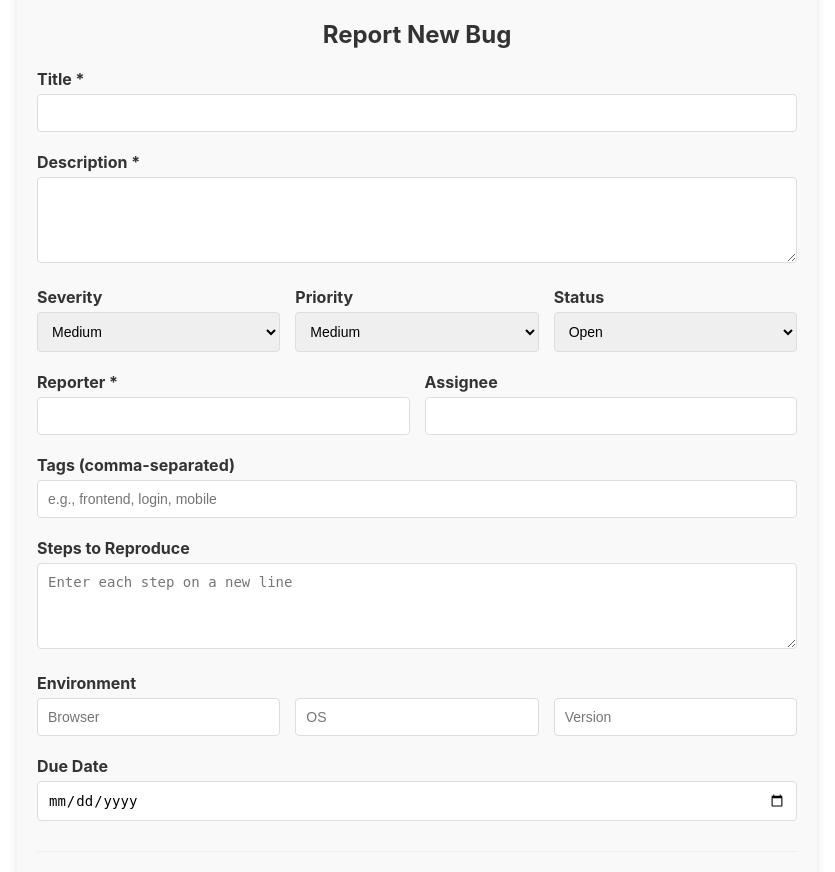
it: BugForm Component › Form Actions › resets form when reset button is clicked
This screenshot has width=835, height=872.
Type "Test Bug" into the field labelled "Title *" at {"x": 417, "y": 113}, box left=37, top=94, right=797, bottom=132
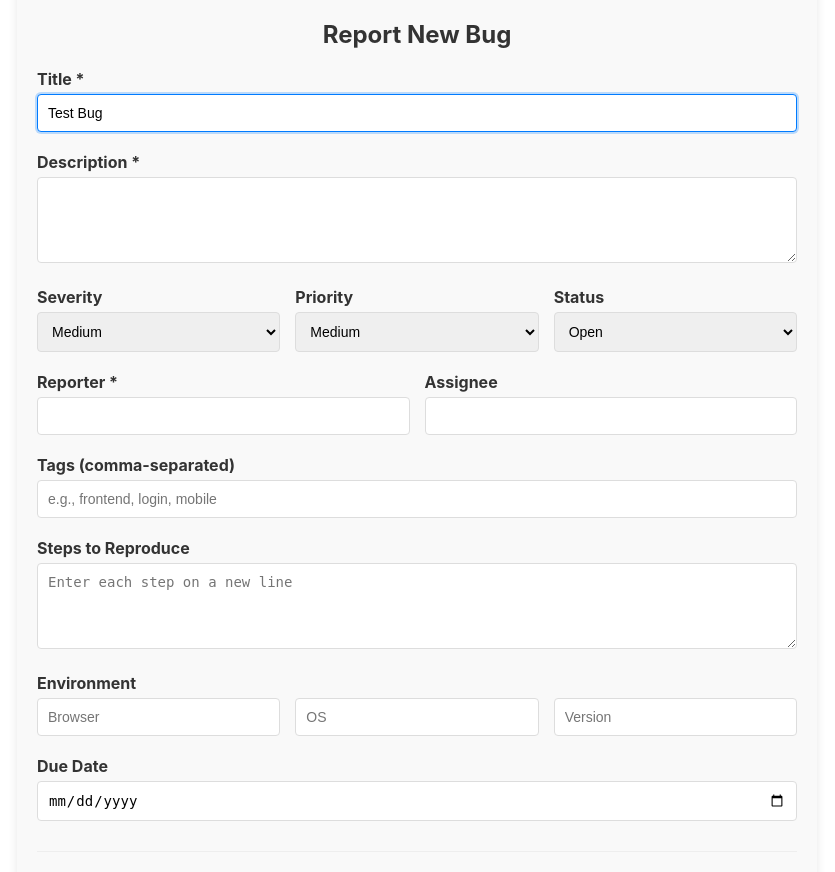
Type "Test description" into the text box labelled "Description *" at {"x": 417, "y": 220}, box left=37, top=177, right=797, bottom=263
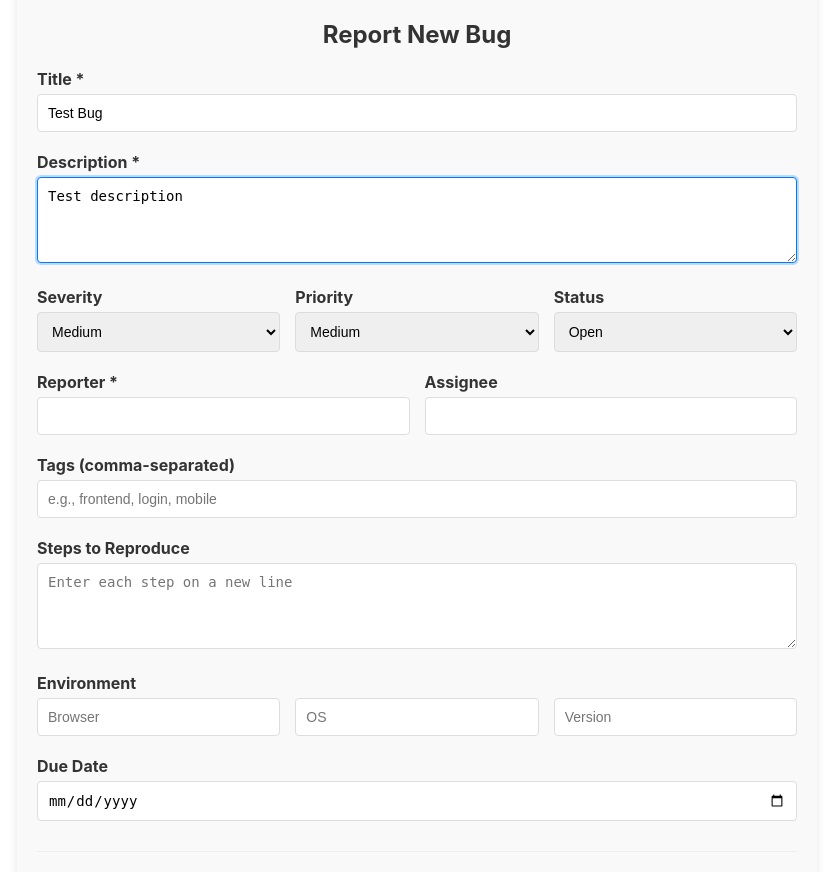
Type "John Doe" into the field labelled "Reporter *" at {"x": 223, "y": 416}, box left=37, top=397, right=410, bottom=435
(page scrolled)
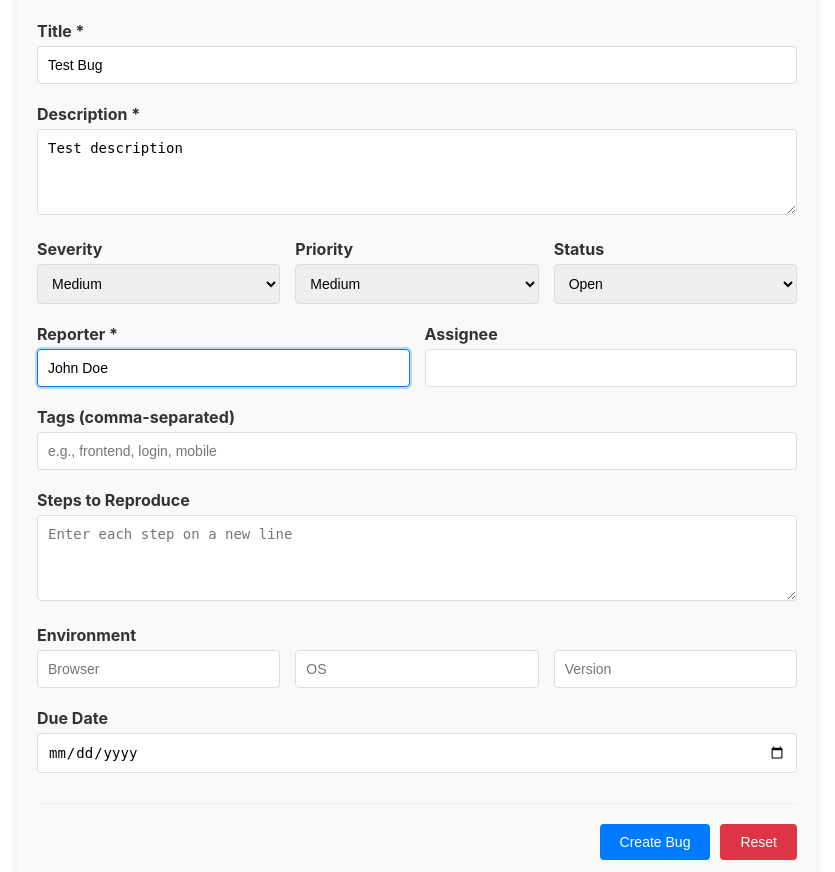
Click the button "Reset" at {"x": 759, "y": 842}, box left=720, top=824, right=797, bottom=860
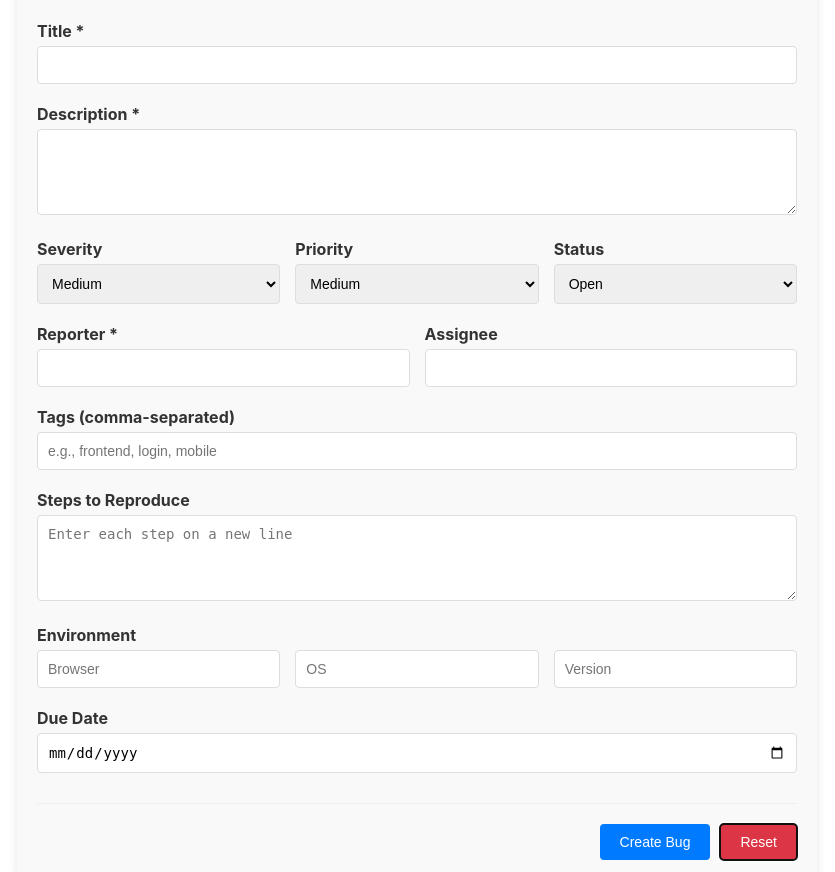
Check: the field labelled "Title *" is empty, box left=37, top=46, right=797, bottom=84
Check: the text box labelled "Description *" is empty, box left=37, top=129, right=797, bottom=215
Check: the field labelled "Reporter *" is empty, box left=37, top=349, right=410, bottom=387
